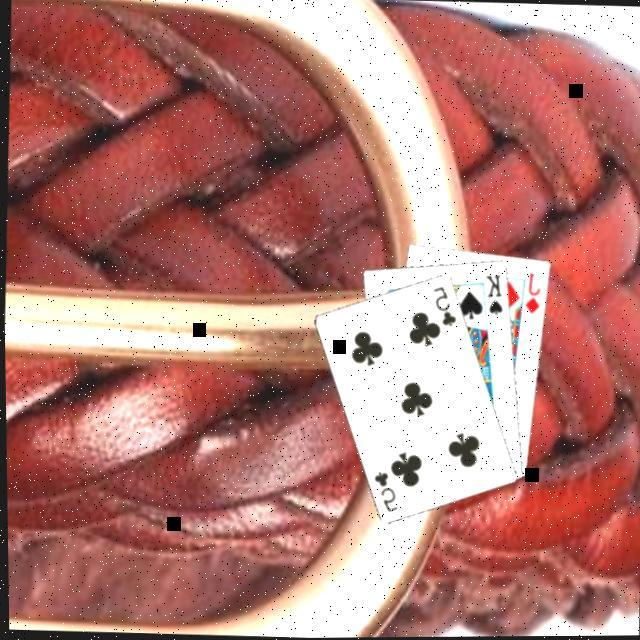5C: (426, 284, 459, 332), (367, 469, 400, 516)
JD: (518, 271, 543, 320)
KS: (478, 272, 506, 321)
